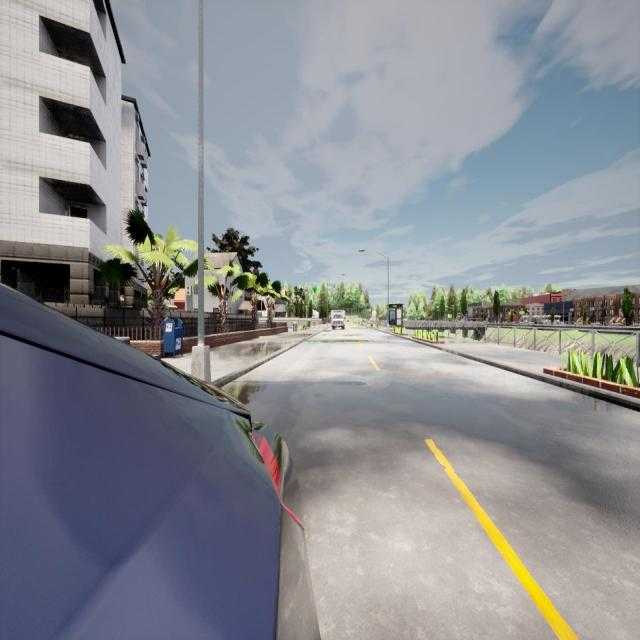Vehicle: (0, 285, 319, 638), (332, 310, 344, 330)
